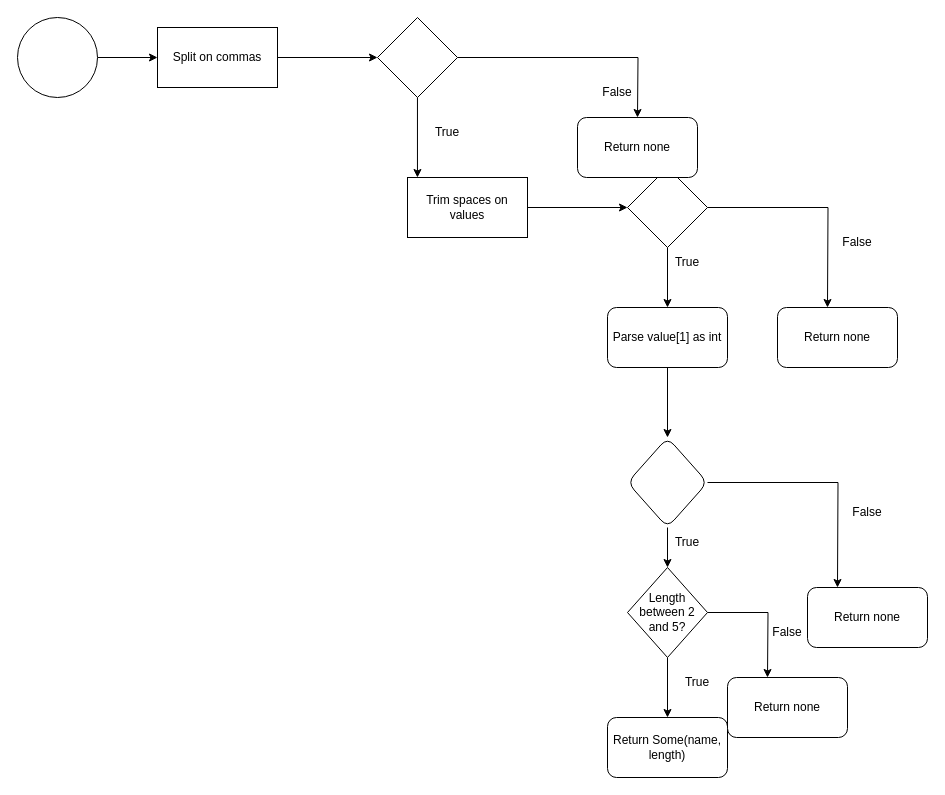
This 945x795 diagram has some shape labels left out. Each missing label, with the centre of its shape:
Number of values = 2?: (417,57)
Parse successful?: (667,482)
Start: (57,57)
Value [0] != "": (667,207)
